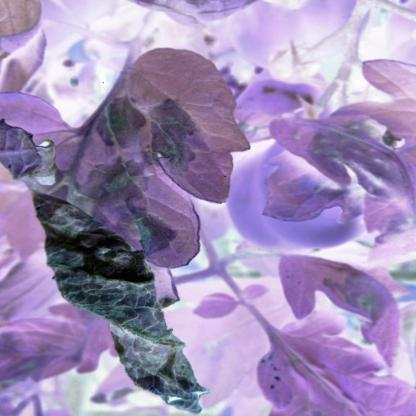tomato leaf late blight: (72, 94, 207, 274), (123, 33, 247, 212), (243, 241, 412, 356), (270, 110, 416, 210)
